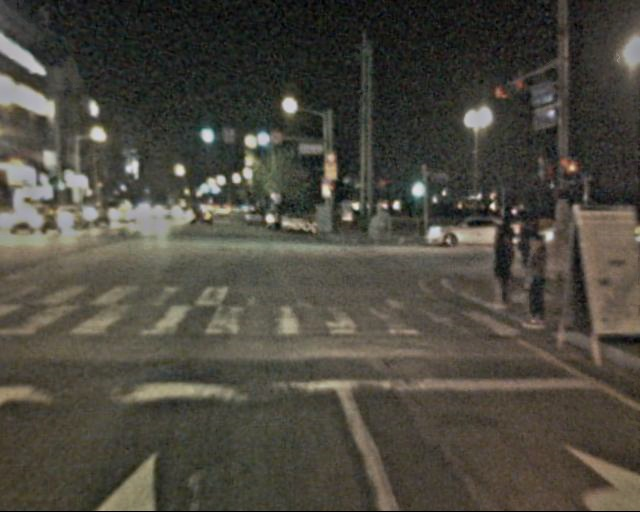person: (512, 230, 557, 331), (482, 221, 523, 318)
